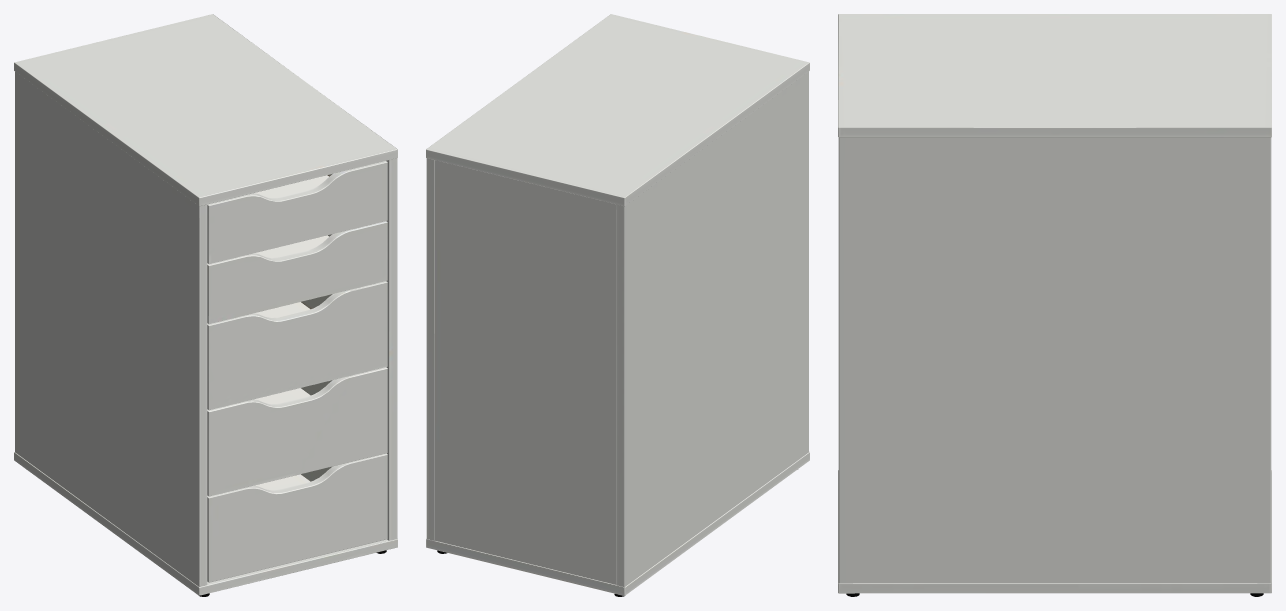
Rendered from ALEX drawer unit - white.glb.
3 views of the same model, side by side, from view 1: azimuth 30°, elevation 25°; view 2: azimuth 150°, elevation 25°; view 3: azimuth 270°, elevation 25° (orthographic). The views are drawn at different scales.
Visible parts, largest first — view 1: 00473546-ALEX001; view 2: 00473546-ALEX001; view 3: 00473546-ALEX001.
Part boxes in pixels (box(x1,y1,x2,y2)): 00473546-ALEX001: box(14, 14, 397, 596); 00473546-ALEX001: box(426, 14, 809, 596); 00473546-ALEX001: box(838, 14, 1271, 596).
Bounding box in the file's own units: 0.3612 × 0.7001 × 0.5821.
1 material, 1 textured.
